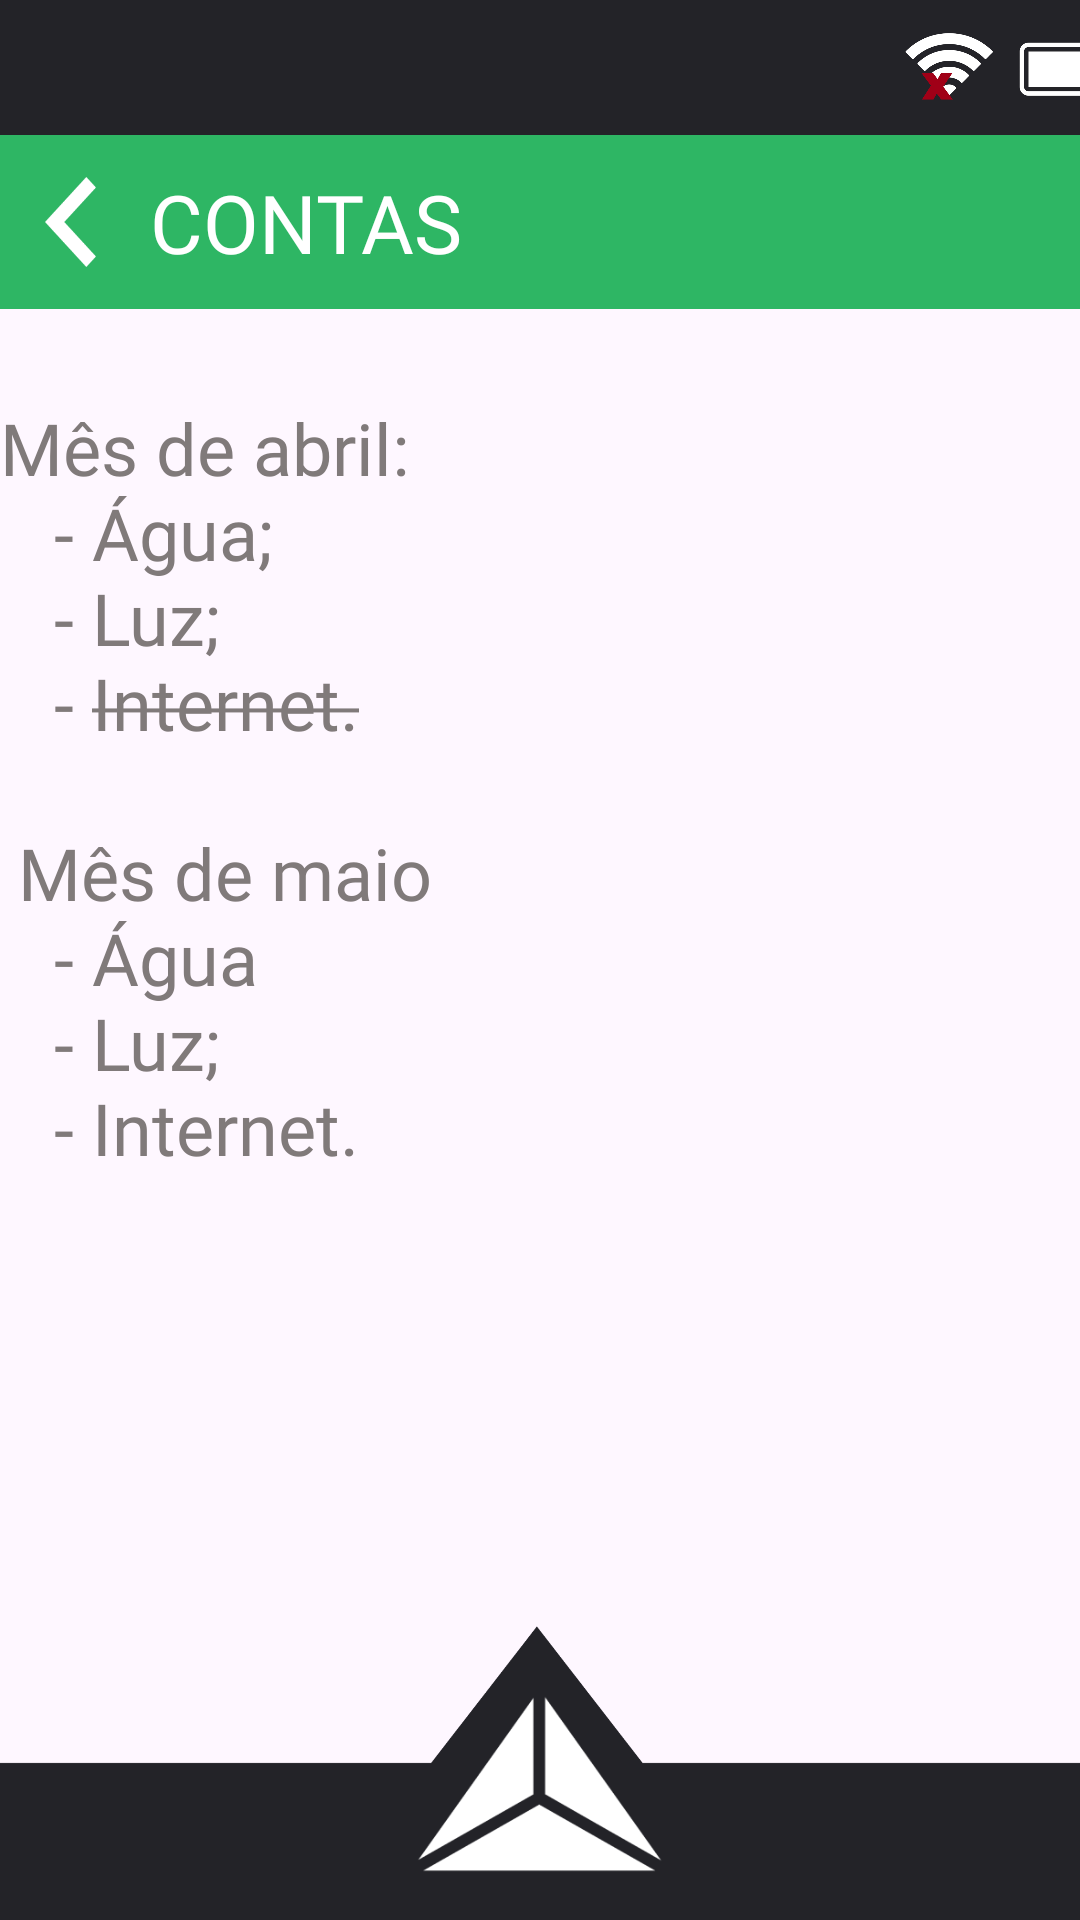

Icon click points for this 1080w x 1920h phone screenshot, format [x,y]:
btnvoltaremail: [70,222]
